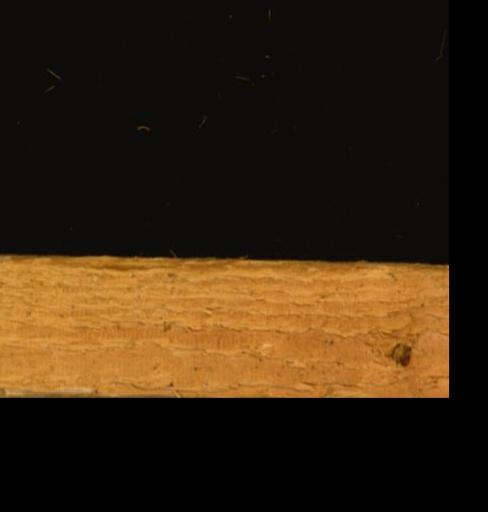dry_knot: (387, 339, 413, 366)
